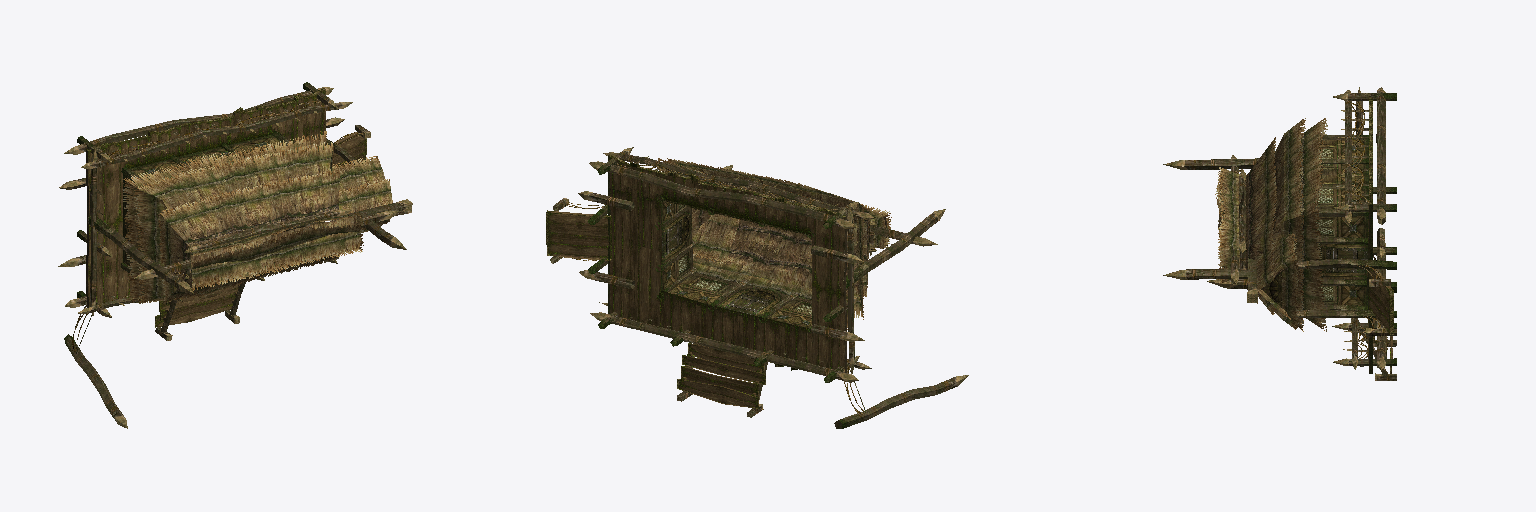
The picture shows the model from 3 angles: view 1: azimuth 30°, elevation 25°; view 2: azimuth 150°, elevation 25°; view 3: azimuth 270°, elevation 25°; orthographic projection.
Parts seen in each view (by area): view 1: zhanchang_fuben_303_tushuguan01; view 2: zhanchang_fuben_303_tushuguan01; view 3: zhanchang_fuben_303_tushuguan01.
Boxes of the visible parts, x1=… form: zhanchang_fuben_303_tushuguan01: x1=58, y1=82, x2=412, y2=428; zhanchang_fuben_303_tushuguan01: x1=546, y1=147, x2=968, y2=428; zhanchang_fuben_303_tushuguan01: x1=1163, y1=87, x2=1396, y2=380.
Size of the model in its own units: 888 by 563 by 545.
Materials: 5 (5 with a texture image).